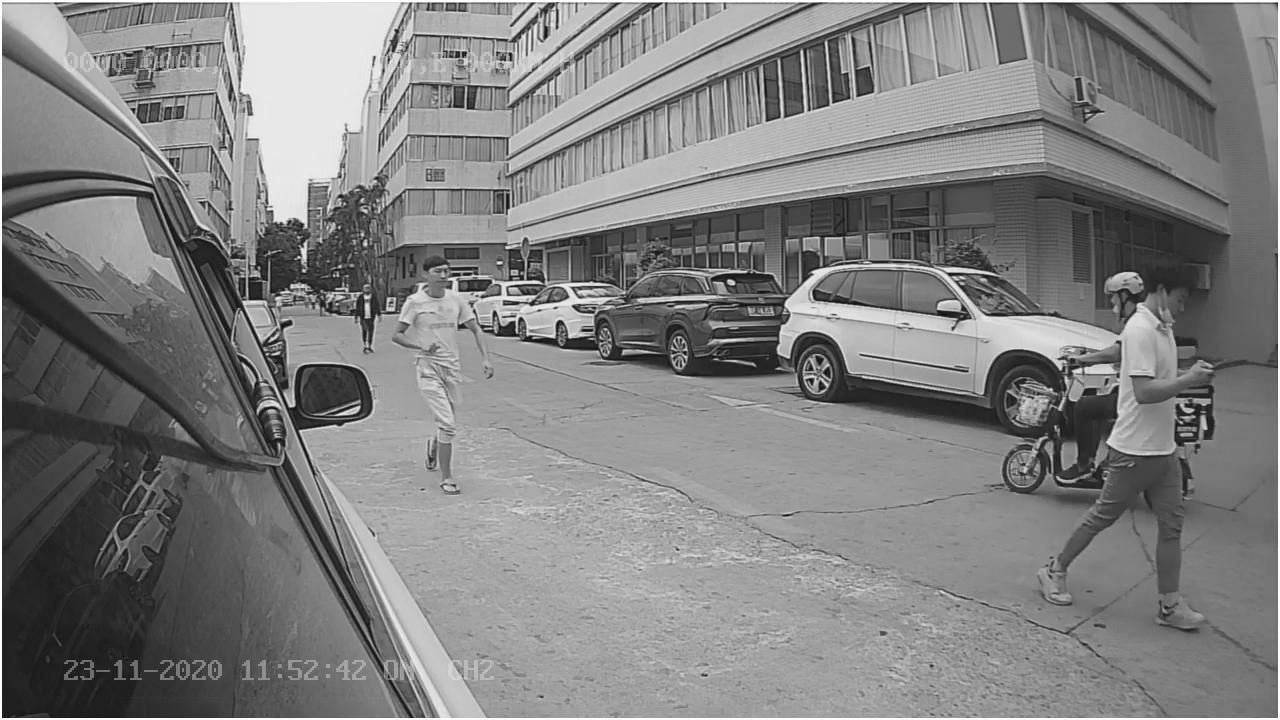person: (396, 247, 480, 492)
